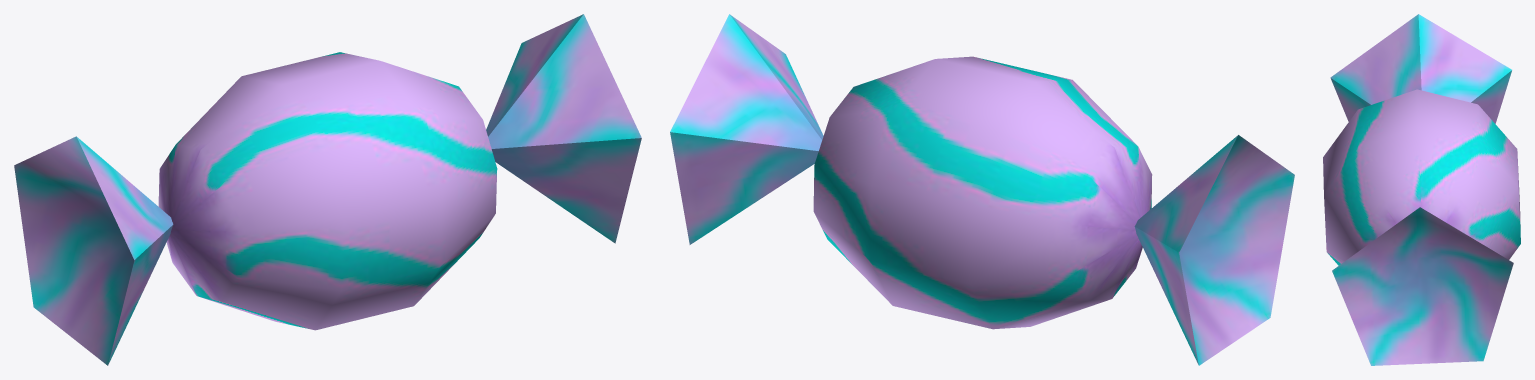
The model's file is eff_mesh_tangguo_01.FBX.
3 renders of one model, left to right at view 1: azimuth 30°, elevation 25°; view 2: azimuth 150°, elevation 25°; view 3: azimuth 270°, elevation 25°, orthographic. The views are drawn at different scales.
Visible parts, largest first — view 1: 001; view 2: 001; view 3: 001.
Part boxes in pixels (x1,y1,x2,y2): 001: (14, 14, 641, 365); 001: (670, 14, 1294, 365); 001: (1323, 14, 1520, 365).
Bounding box in the file's own units: 21.66 × 9.76 × 9.44.
